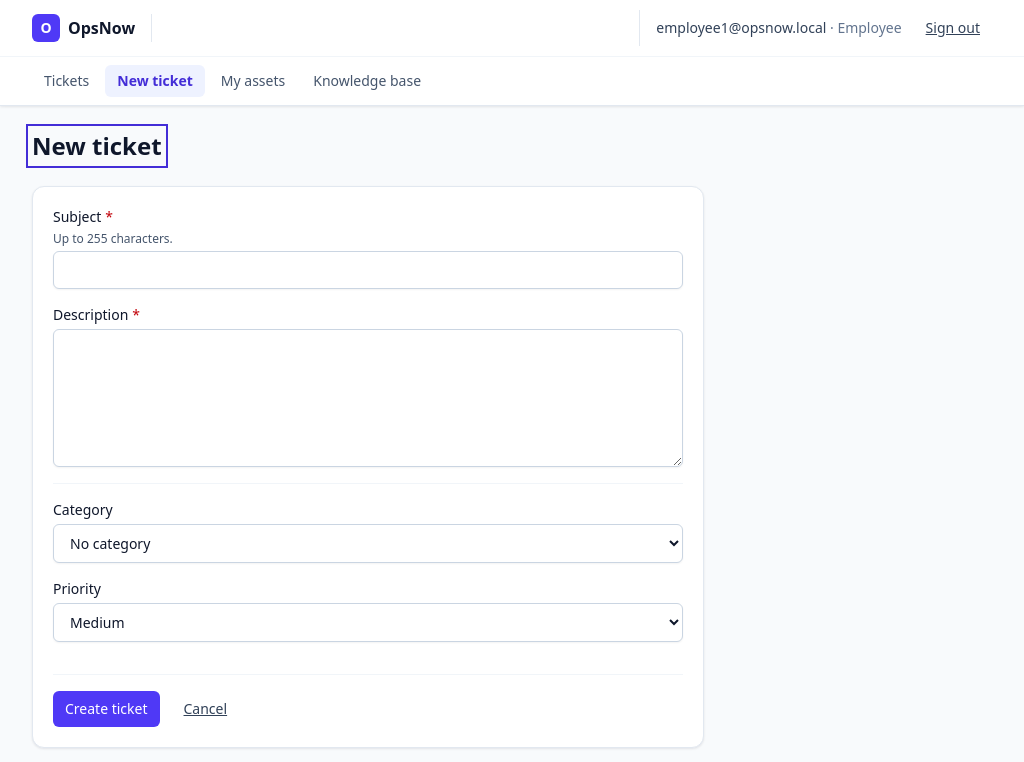
Scenario: ticket creation — form › omits categoryId entirely when no category is chosen
Expected: the heading "New ticket" is shown, [32,130,162,162]
Type "No category" into the field labelled "Subject*" at (368, 270), box [53,251,683,289]
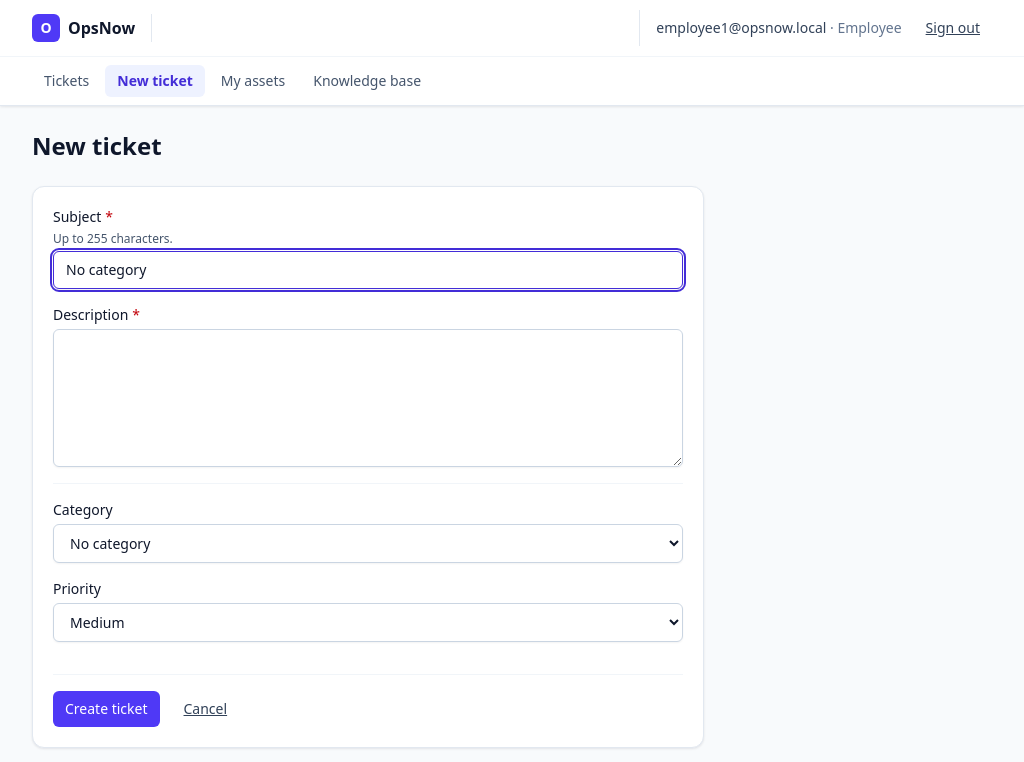
Type "Body text" into the text box labelled "Description*" at (368, 398), box [53,329,683,467]
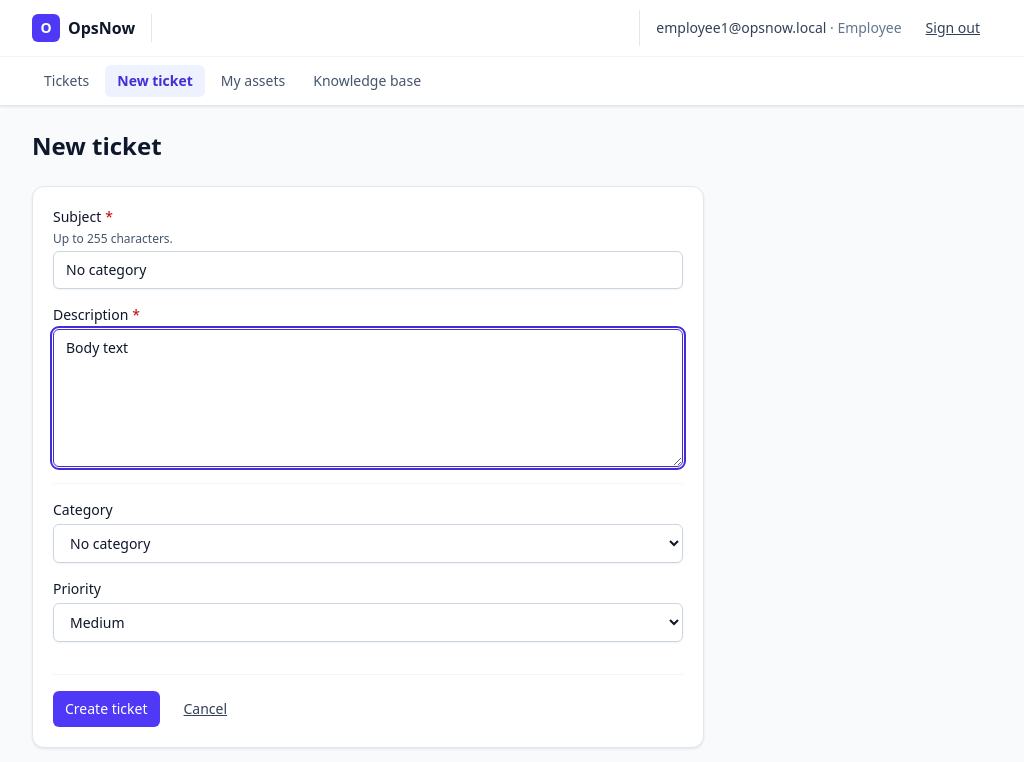
Click the button "Create ticket" at (106, 709), box [53,691,160,727]
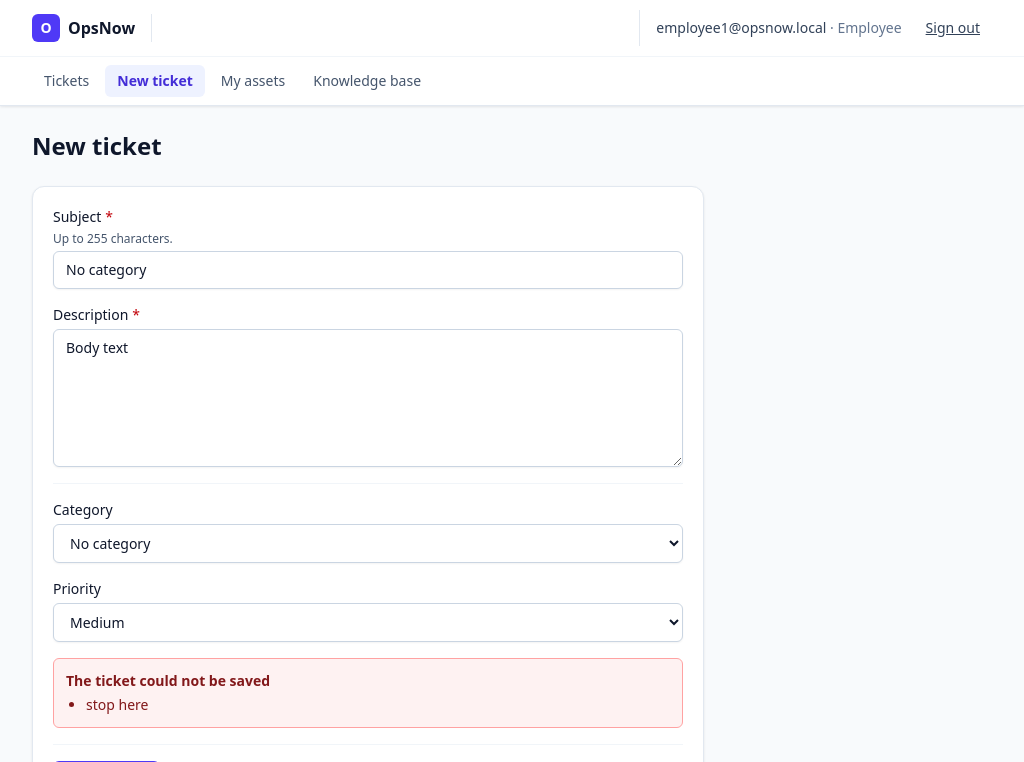
Expected: the list item "stop here" is shown, [86,695,148,714]
